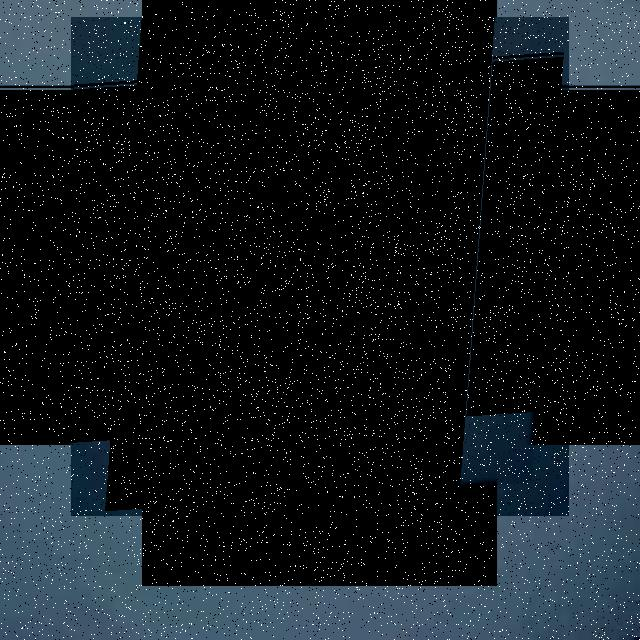dua ribu rupiah: (71, 17, 569, 516)
